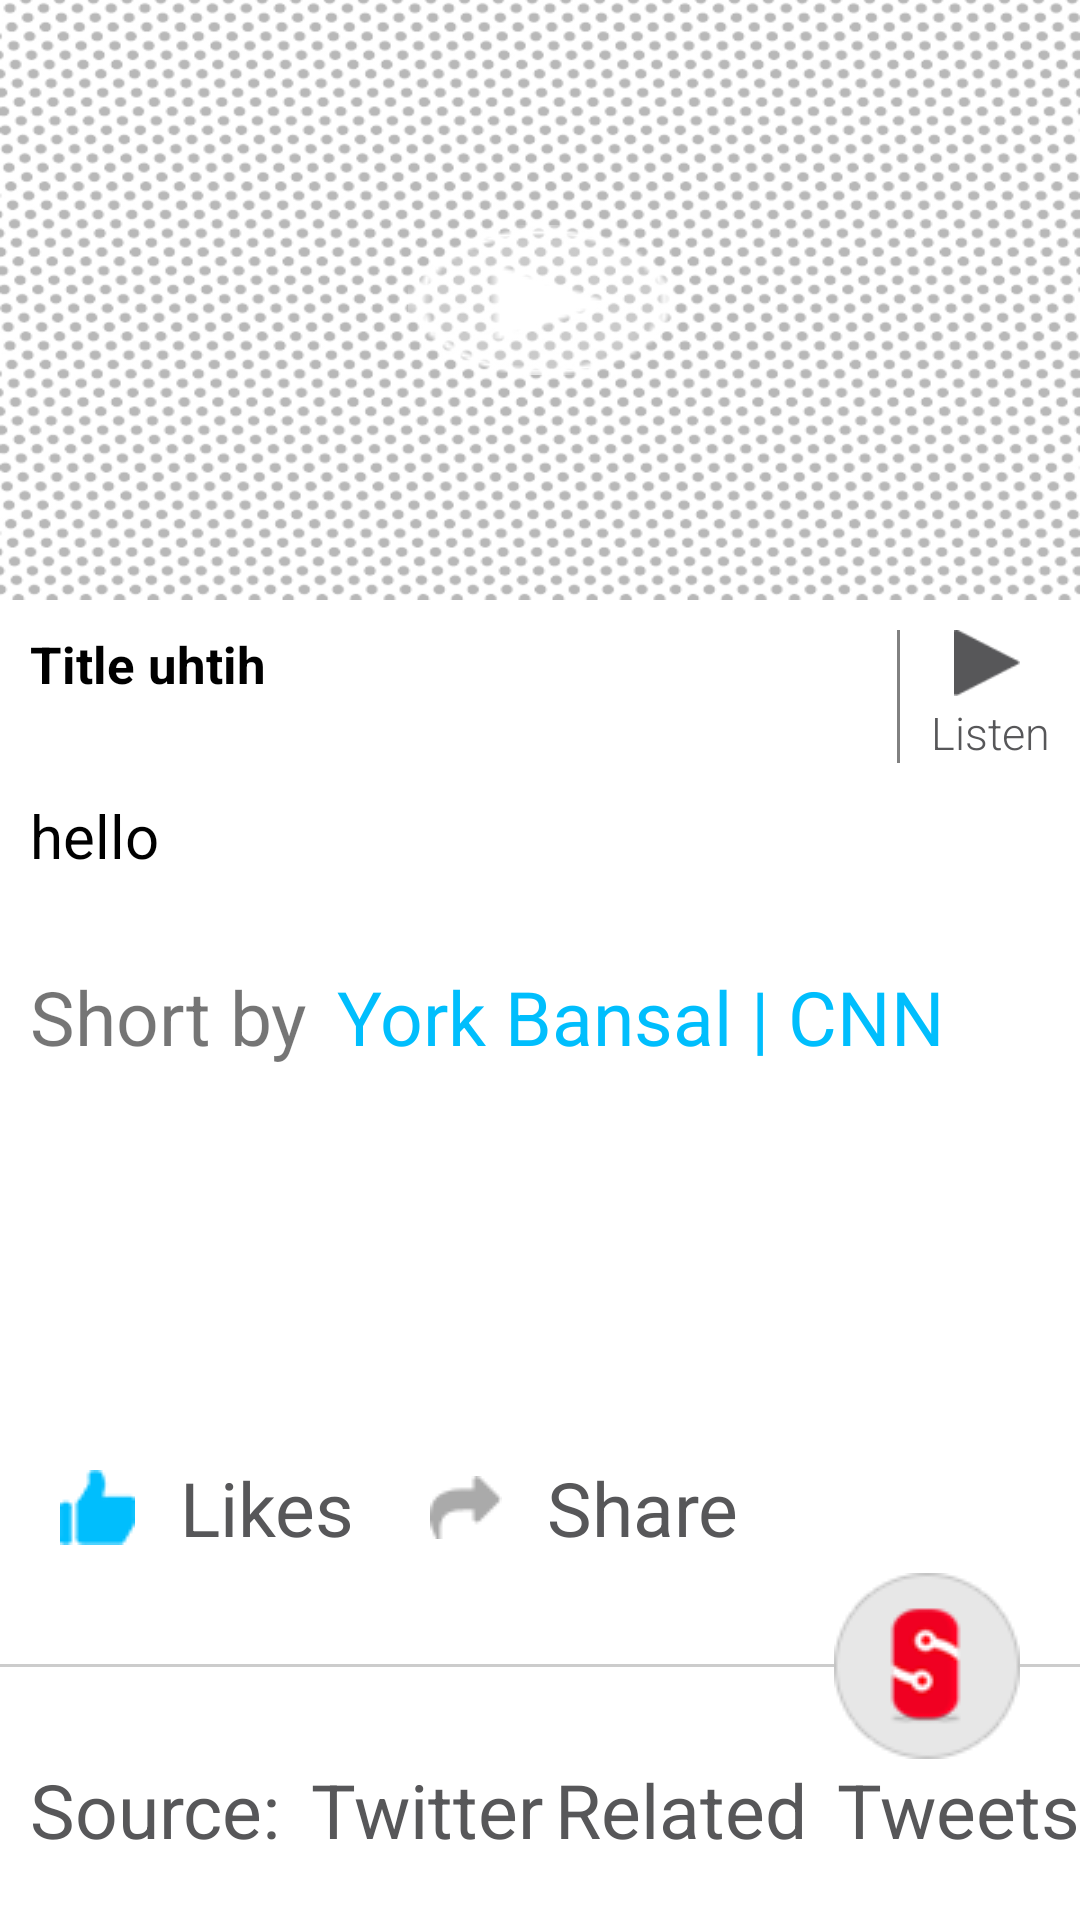

Icons on this 1080x1920 Android screen, each with its box as [x1,y1,x2,y2]:
audioplaystop: [954,630,1020,696]
